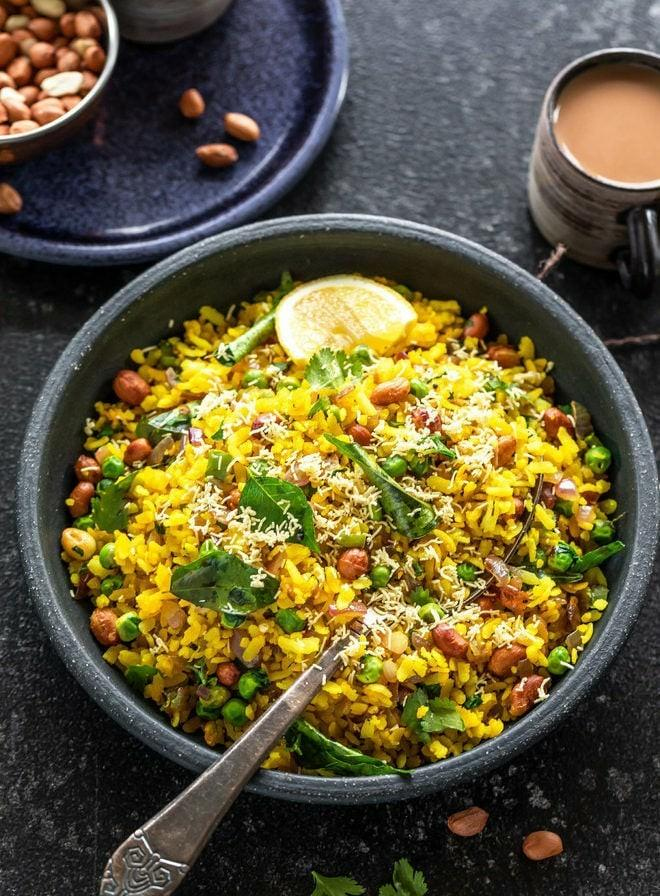Poha: (73, 278, 616, 775)
